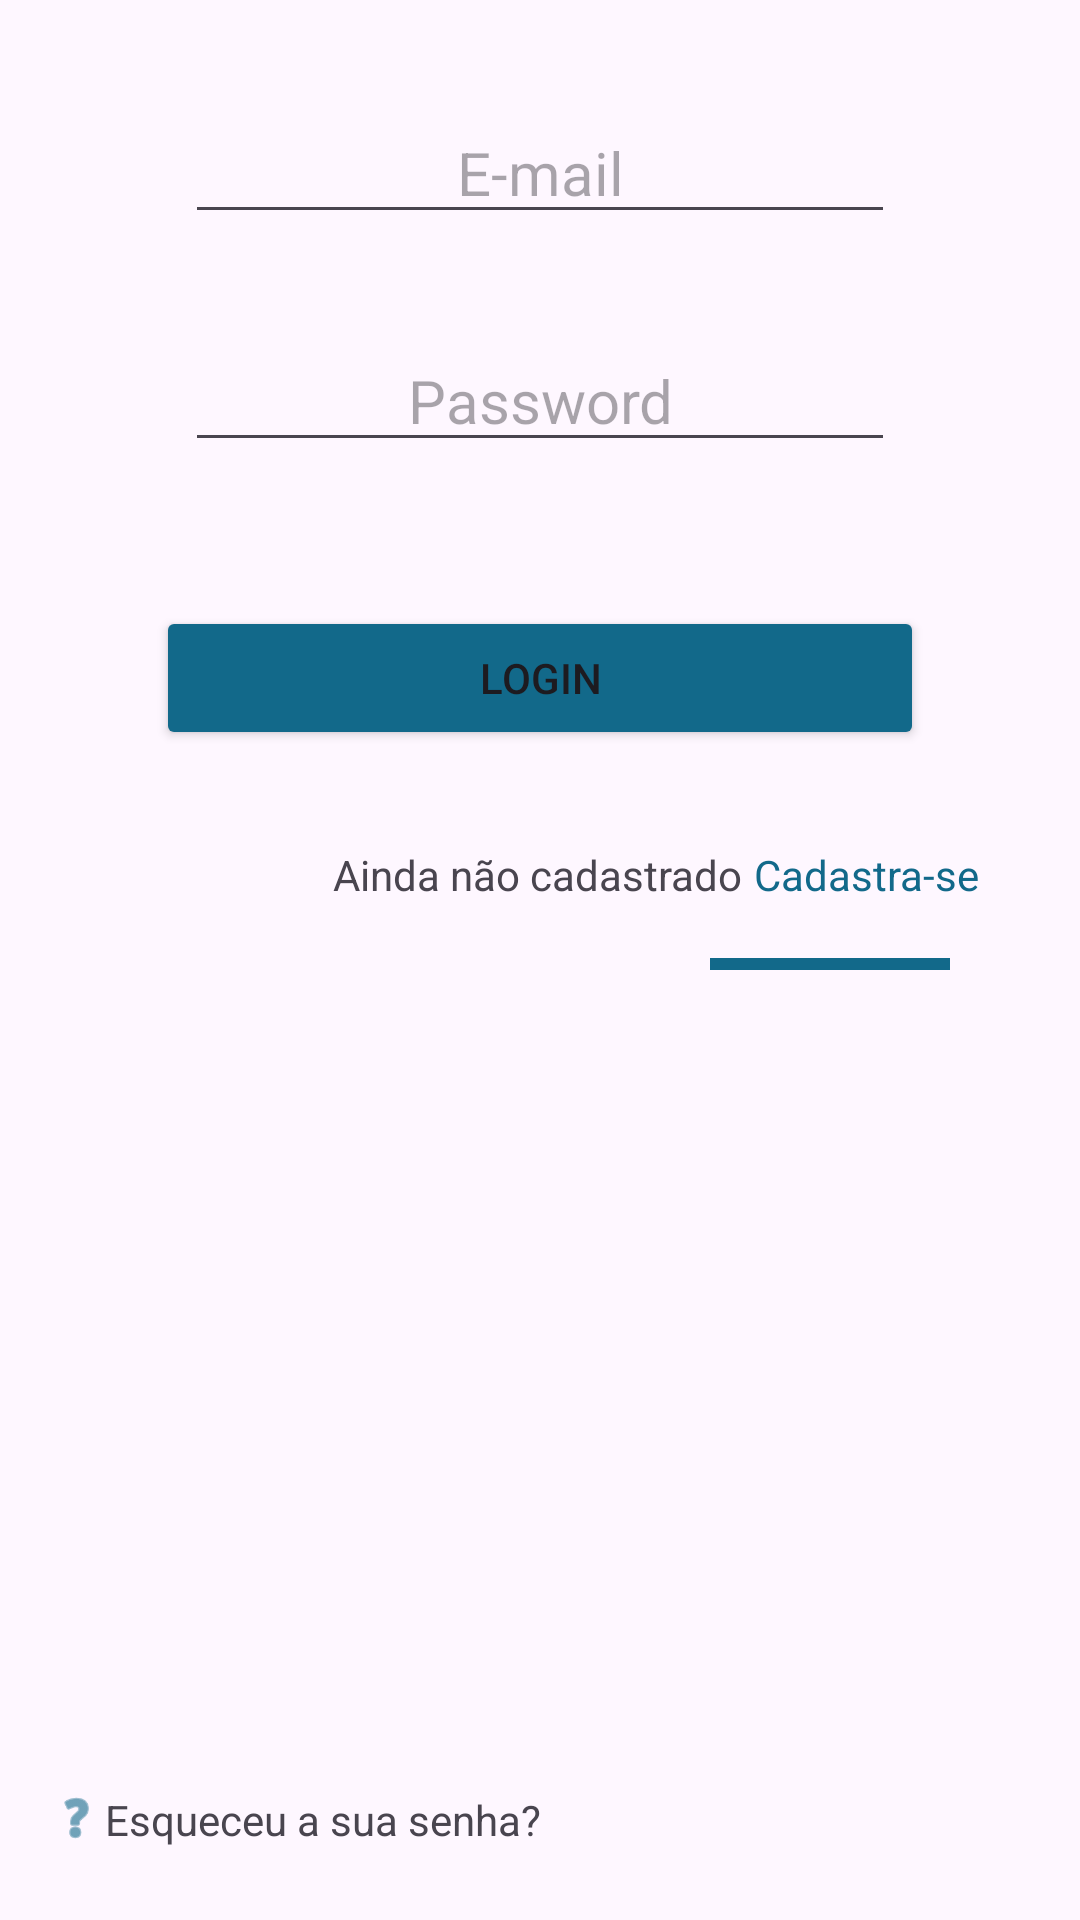

Icon bounding boxes for this 1080px x 1920px phone screenshot, format BBox(x1, y1, x2, y2):
help: BBox(64, 1798, 89, 1838)
